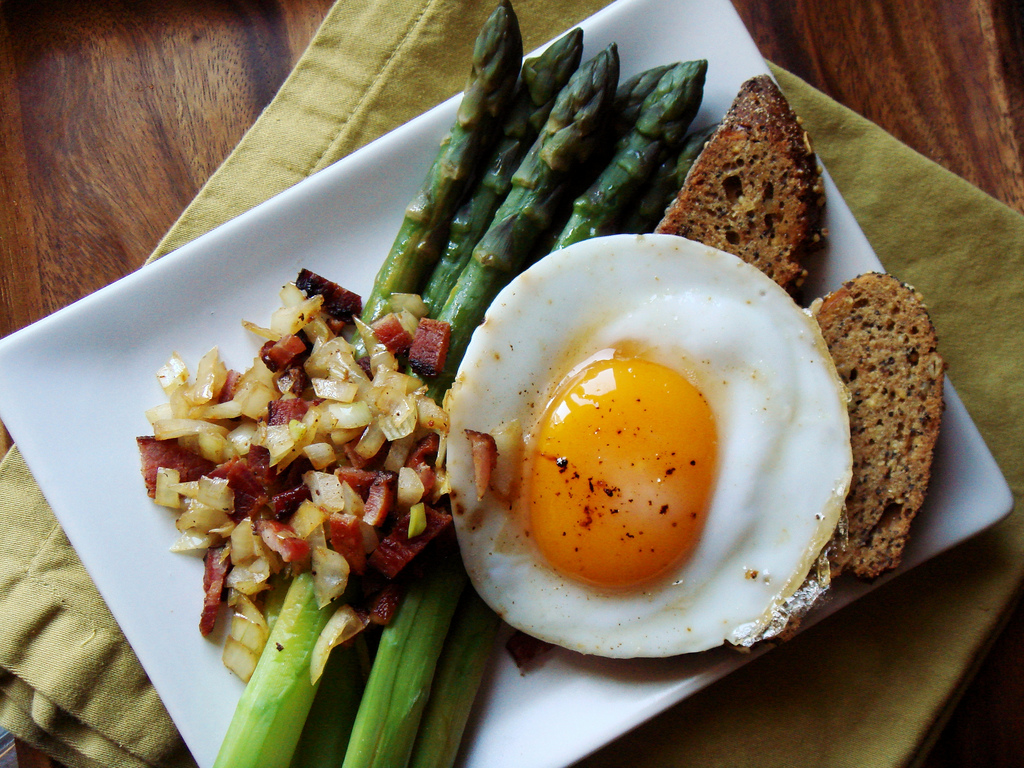fried egg: (451, 253, 836, 643)
slice of bread: (810, 291, 953, 570), (683, 67, 840, 274)
